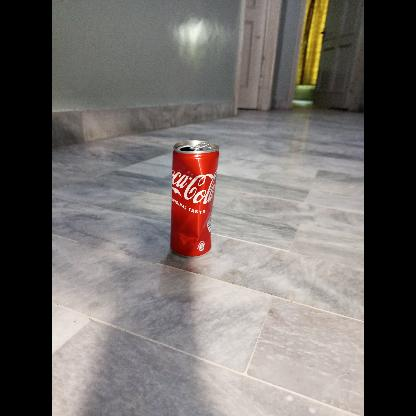Dent_Can: (172, 164, 217, 195), (178, 208, 211, 249)
Lid_Open: (179, 136, 213, 158)
Tin_Can: (166, 130, 224, 263)
